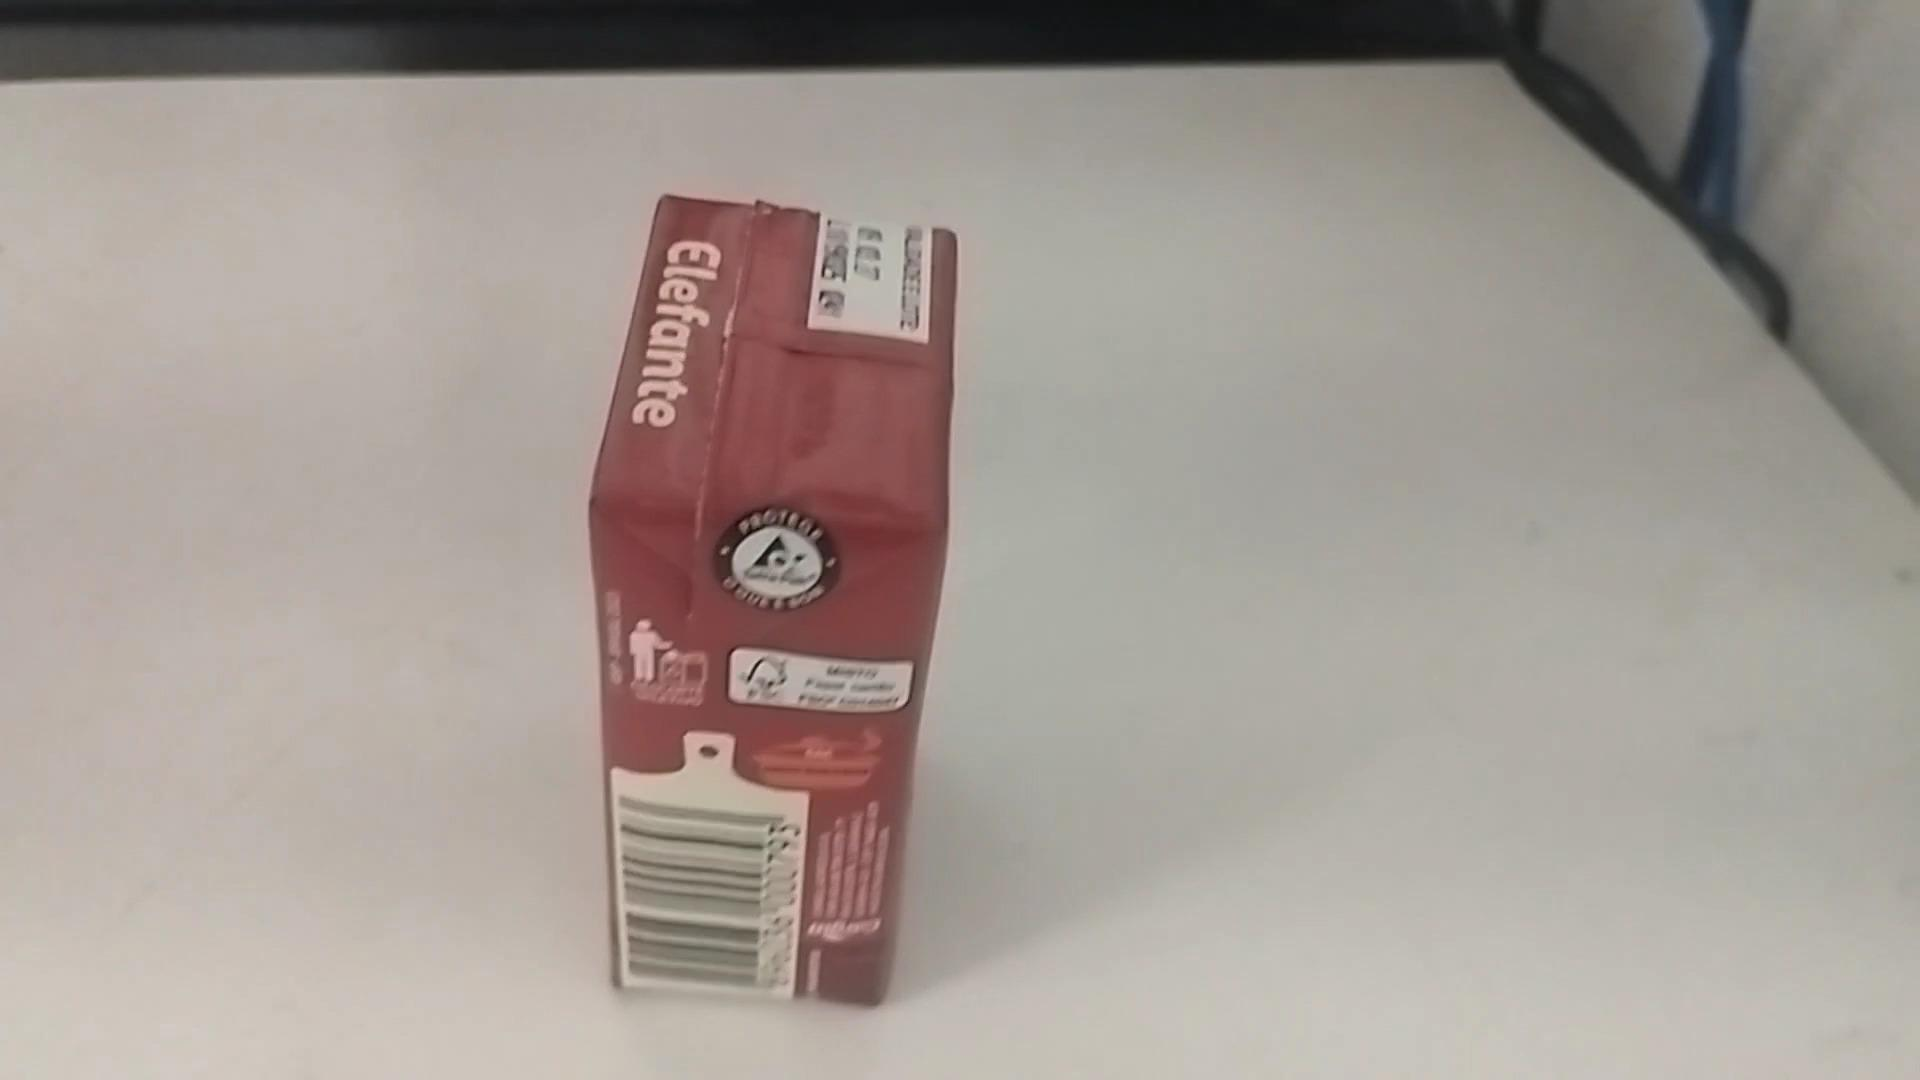tomate: (585, 189, 965, 1010)
